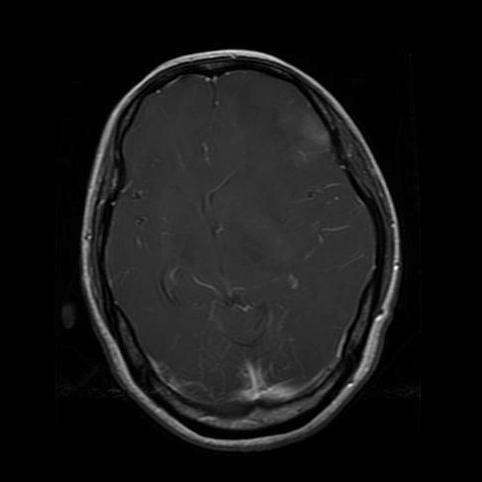Tumour-Glioma: (271, 93, 343, 172)
